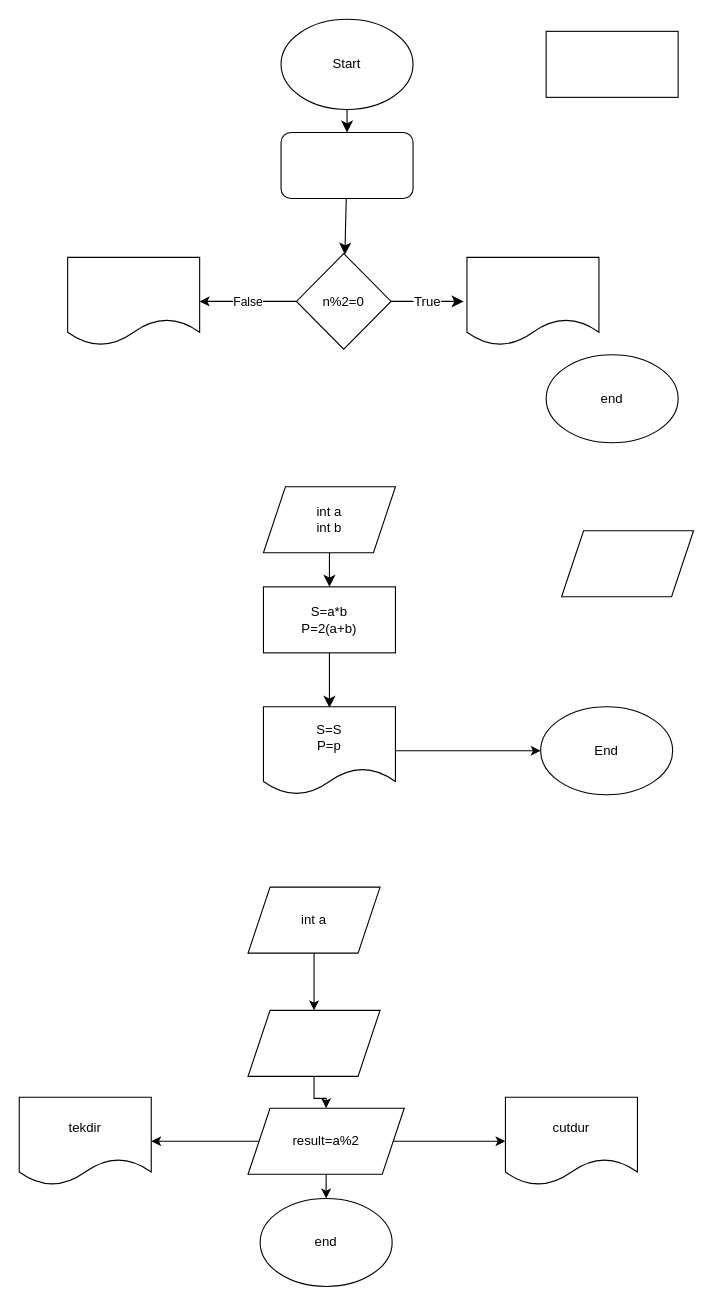
Image size: 713x1306. Some labels were removed from this diagram. The shapes that lost their labels are listed below. From the top down, each one's centre as x and y in pixels, then its label:
point (611, 63): Task 2
point (346, 165): int n
point (133, 300): tek
point (532, 300): cut
point (627, 563): Task 3
point (313, 1042): result=a%3
